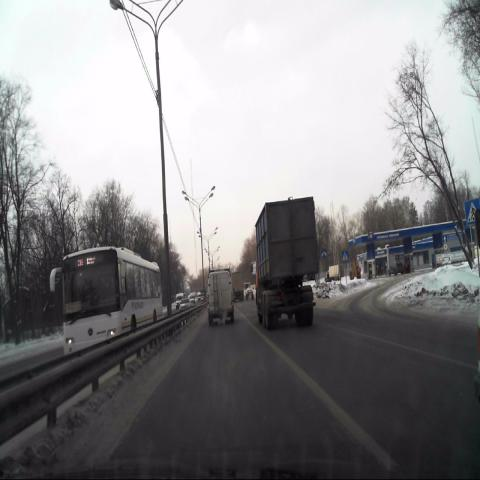4_2_3: (320, 247, 328, 260)
5_19_1: (464, 199, 480, 225), (341, 249, 349, 263)
